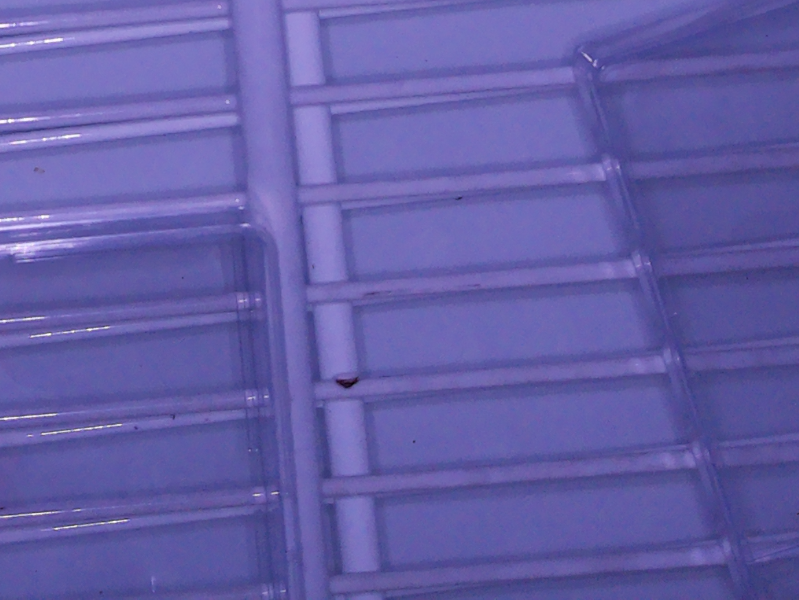plate: (572, 1, 799, 600), (1, 213, 312, 600)
